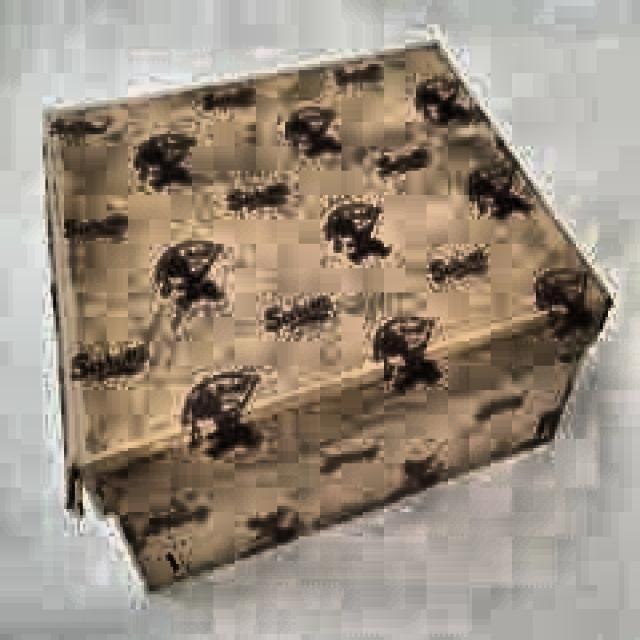cardboard: (39, 34, 614, 592)
